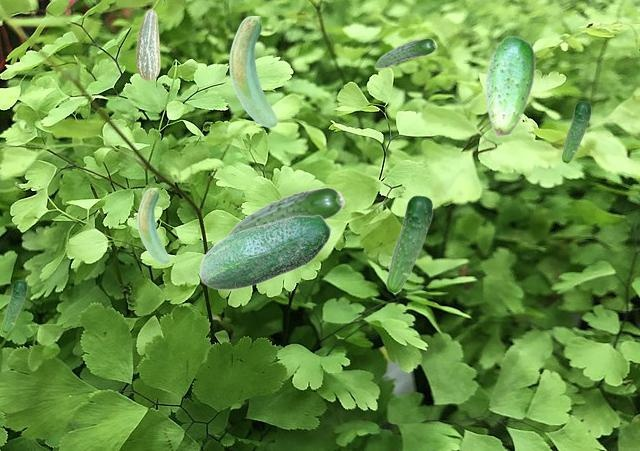cucumber: (199, 214, 331, 289), (228, 187, 344, 234), (229, 16, 276, 126), (485, 35, 534, 136), (385, 195, 432, 292), (137, 188, 168, 262), (374, 38, 436, 67), (561, 101, 590, 162), (136, 9, 159, 79), (1, 280, 26, 332)
